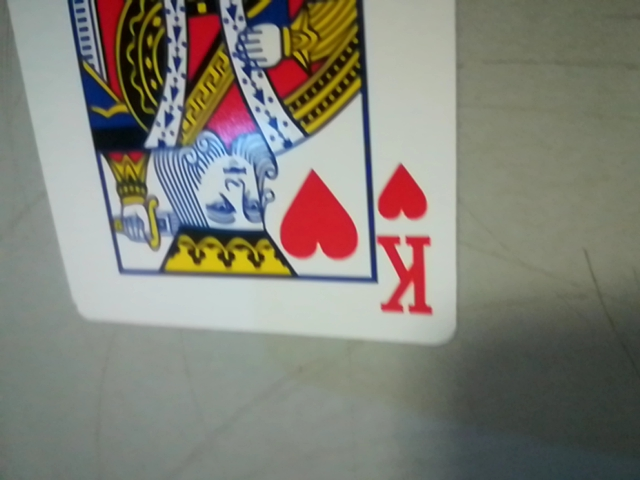hx k: (365, 153, 449, 331)
